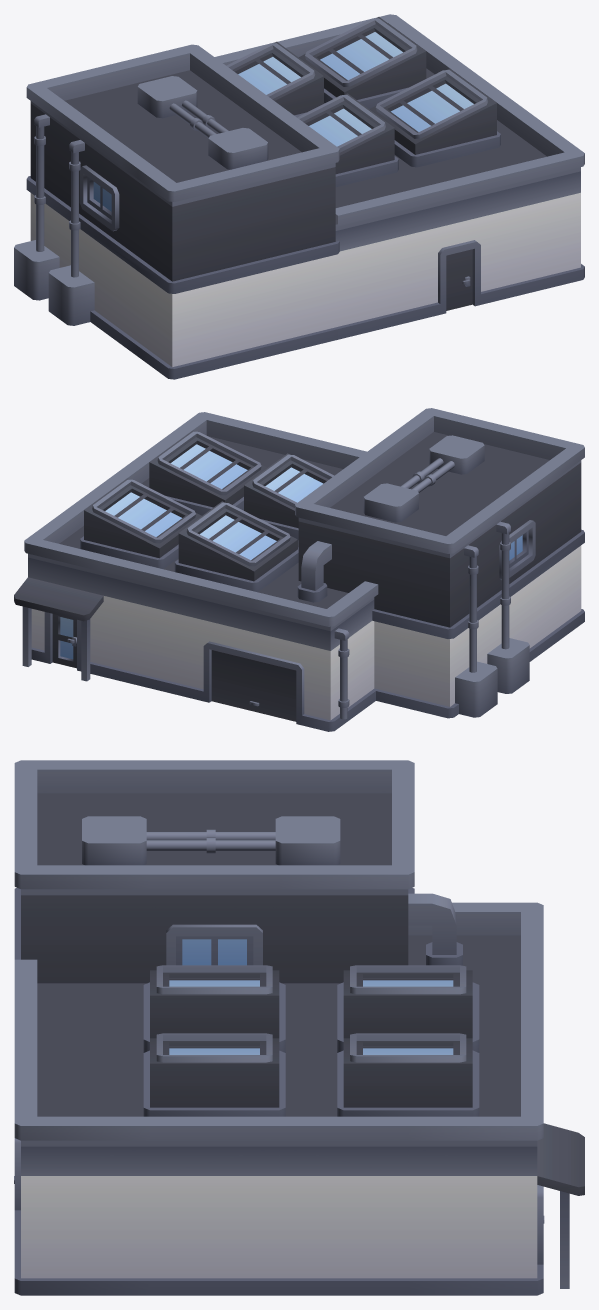
Rendered from kenney-city-industrial-building-q.glb.
The picture shows the model from 3 angles, top to bottom: view 1: azimuth 30°, elevation 25°; view 2: azimuth 150°, elevation 25°; view 3: azimuth 270°, elevation 25°; orthographic projection. The views are drawn at different scales.
Visible parts, largest first — view 1: building-q; view 2: building-q; view 3: building-q.
Boxes of the visible parts, x1,y1,x2,y2 form: building-q: (14,14,584,379); building-q: (14,408,584,731); building-q: (14,760,584,1295).
Bounding box in the file's own units: 2.14 × 0.8799 × 1.77.
Materials: 1 (1 with a texture image).
